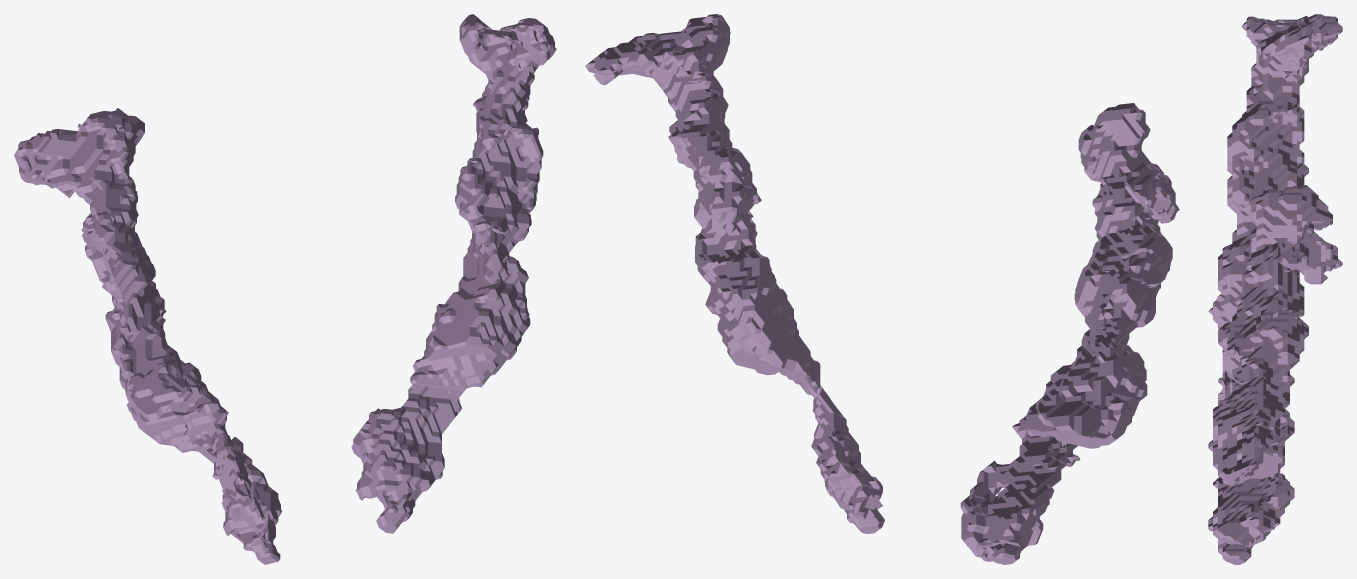
Rendered from region_0079_LLF__lateral_longitudinal_fascicle_.glb.
The picture shows the model from 3 angles, left to right: view 1: azimuth 30°, elevation 25°; view 2: azimuth 150°, elevation 25°; view 3: azimuth 270°, elevation 25°; orthographic projection. The views are drawn at different scales.
Visible parts, largest first — view 1: world; view 2: world; view 3: world.
Boxes of the visible parts, x1,y1,x2,y2 form: world: [14, 14, 556, 564]; world: [585, 14, 1179, 564]; world: [1208, 14, 1342, 564].
Size of the model in its own units: 0.96 by 0.792 by 0.224.
